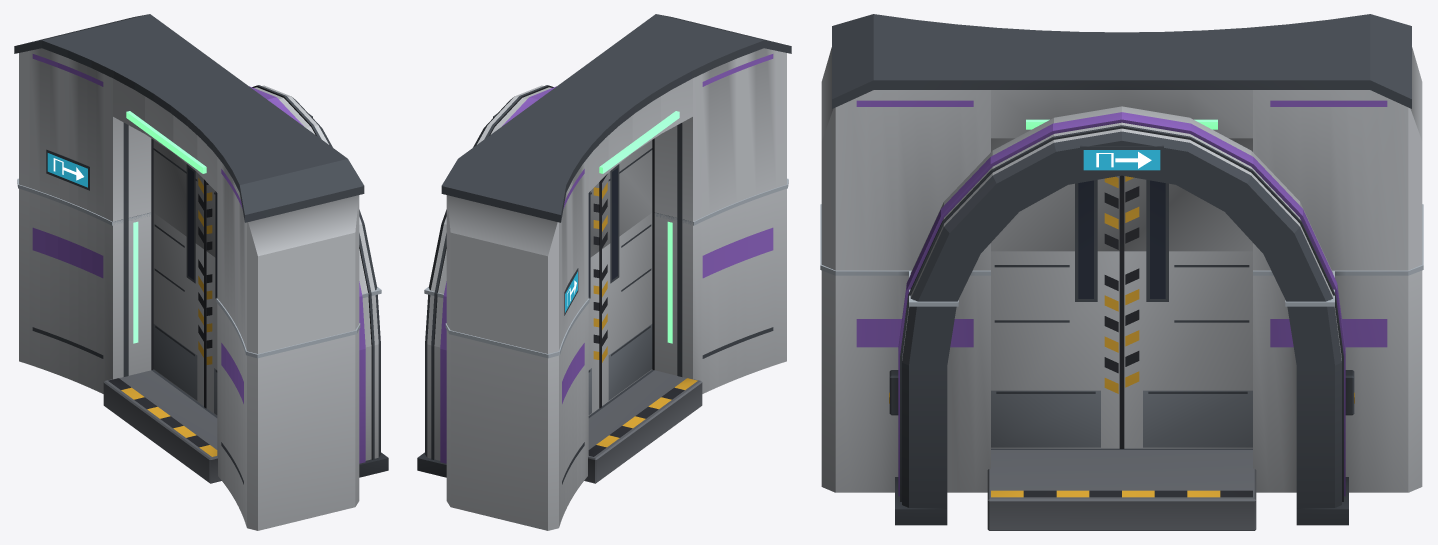
File: doorway_flat_r475.glb
3 views of the same model, side by side, from view 1: azimuth 30°, elevation 25°; view 2: azimuth 150°, elevation 25°; view 3: azimuth 270°, elevation 25° (orthographic). The views are drawn at different scales.
Visible parts, largest first — view 1: FrameTop, Frame, DoorR, DoorRTop, DoorL, FrameCap, Sign, DoorLTop, Status, Lights; view 2: FrameTop, Frame, DoorL, DoorLTop, DoorR, FrameCap, DoorRTop, Status, Lights; view 3: FrameTop, Frame, DoorL, DoorR, DoorLTop, DoorRTop, Sign, FrameCap.
Boxes of the visible parts, x1,y1,x2,y2 form: FrameTop: [14, 14, 377, 353]; Frame: [19, 189, 388, 530]; DoorR: [153, 213, 204, 407]; DoorRTop: [153, 140, 204, 250]; DoorL: [205, 251, 217, 415]; FrameCap: [17, 178, 381, 358]; Sign: [46, 114, 312, 190]; DoorLTop: [205, 180, 217, 258]; Status: [126, 111, 206, 173]; Lights: [133, 221, 138, 343]; FrameTop: [428, 14, 791, 353]; Frame: [417, 189, 786, 530]; DoorL: [601, 213, 652, 407]; DoorLTop: [601, 140, 652, 250]; DoorR: [588, 251, 600, 415]; FrameCap: [424, 178, 788, 358]; DoorRTop: [588, 180, 600, 258]; Status: [599, 111, 679, 173]; Lights: [667, 221, 672, 343]; FrameTop: [821, 14, 1422, 301]; Frame: [821, 270, 1422, 530]; DoorL: [991, 251, 1121, 448]; DoorR: [1122, 251, 1252, 448]; DoorLTop: [991, 138, 1121, 251]; DoorRTop: [1122, 138, 1252, 251]; Sign: [1080, 145, 1163, 173]; FrameCap: [820, 204, 1423, 306].
Bounding box in the file's own units: 1.4 × 2.67 × 3.46.
